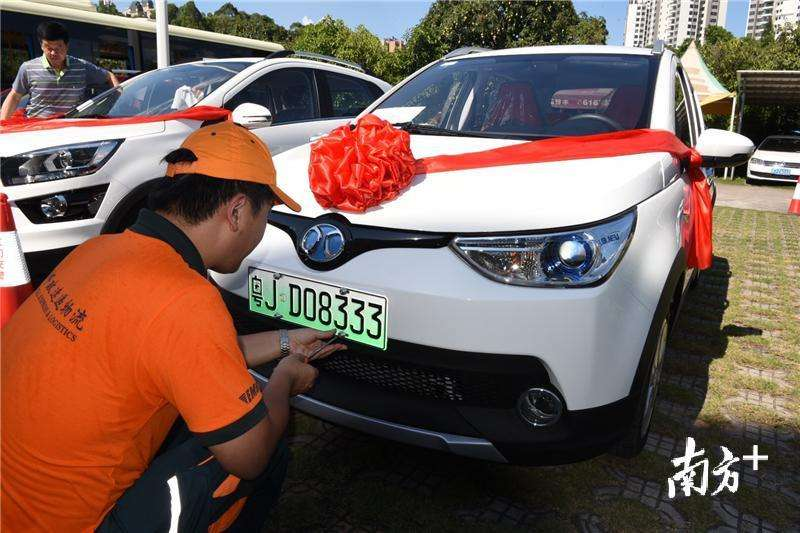plate: (233, 244, 398, 369)
